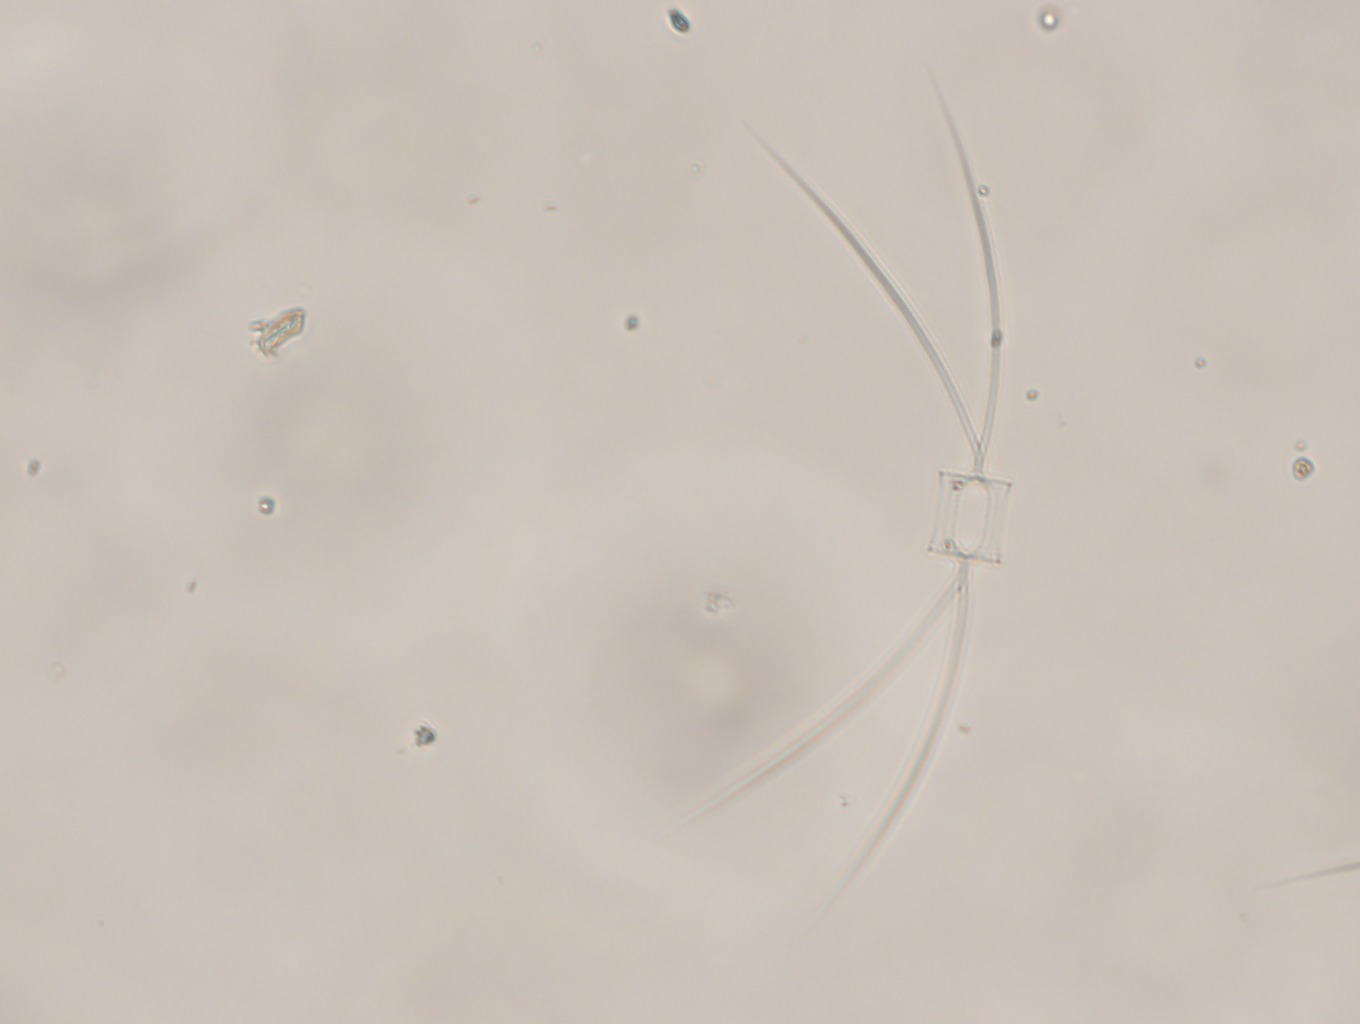chaetoceros: (679, 70, 1018, 907)
